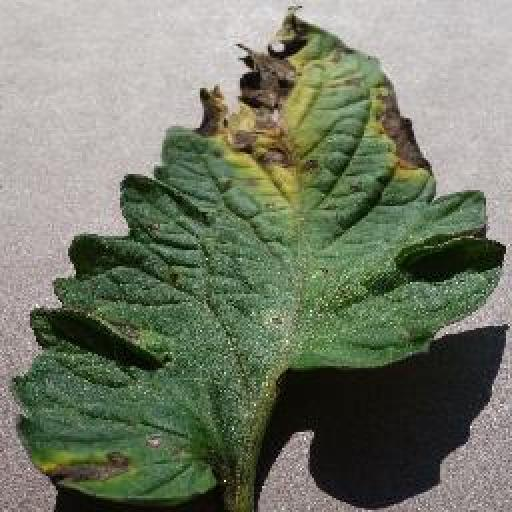disease_tomato: (17, 16, 504, 507)
